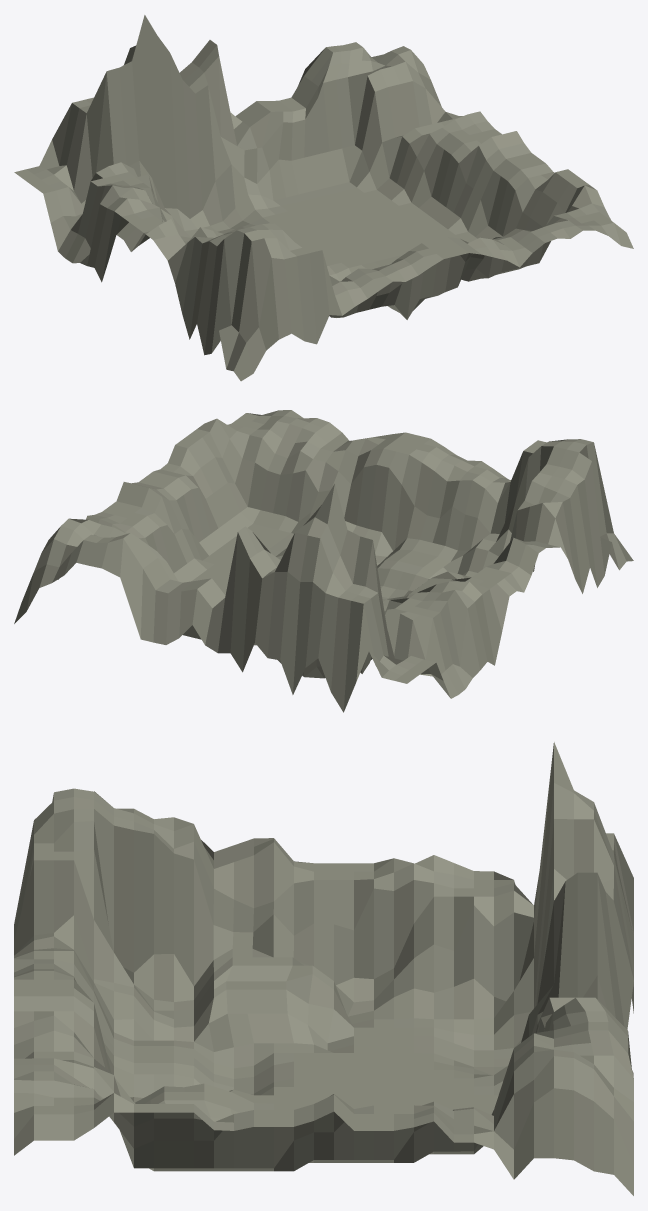
Rendered from Mountain.glb.
3 views of the same model, one above another, from view 1: azimuth 30°, elevation 25°; view 2: azimuth 150°, elevation 25°; view 3: azimuth 270°, elevation 25° (orthographic). The views are drawn at different scales.
Visible parts, largest first — view 1: Mountain; view 2: Mountain; view 3: Mountain.
Part boxes in pixels (<box>): Mountain: <box>14,15,633,381</box>; Mountain: <box>14,410,633,712</box>; Mountain: <box>14,742,633,1195</box>.
Bounding box in the file's own units: 320 × 168 × 320.
Materials: 1 (1 with a texture image).
